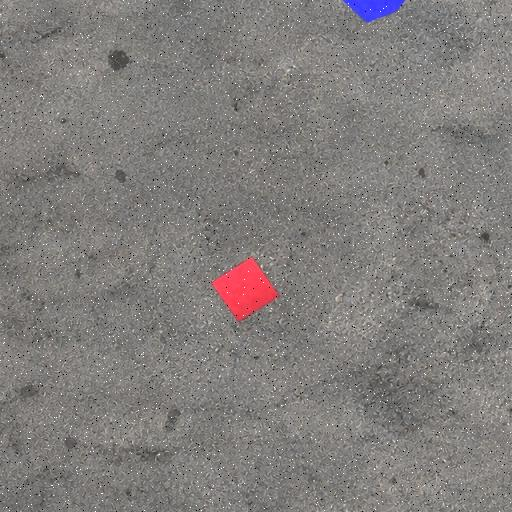RED_SQUARE: (210, 256, 281, 323)
